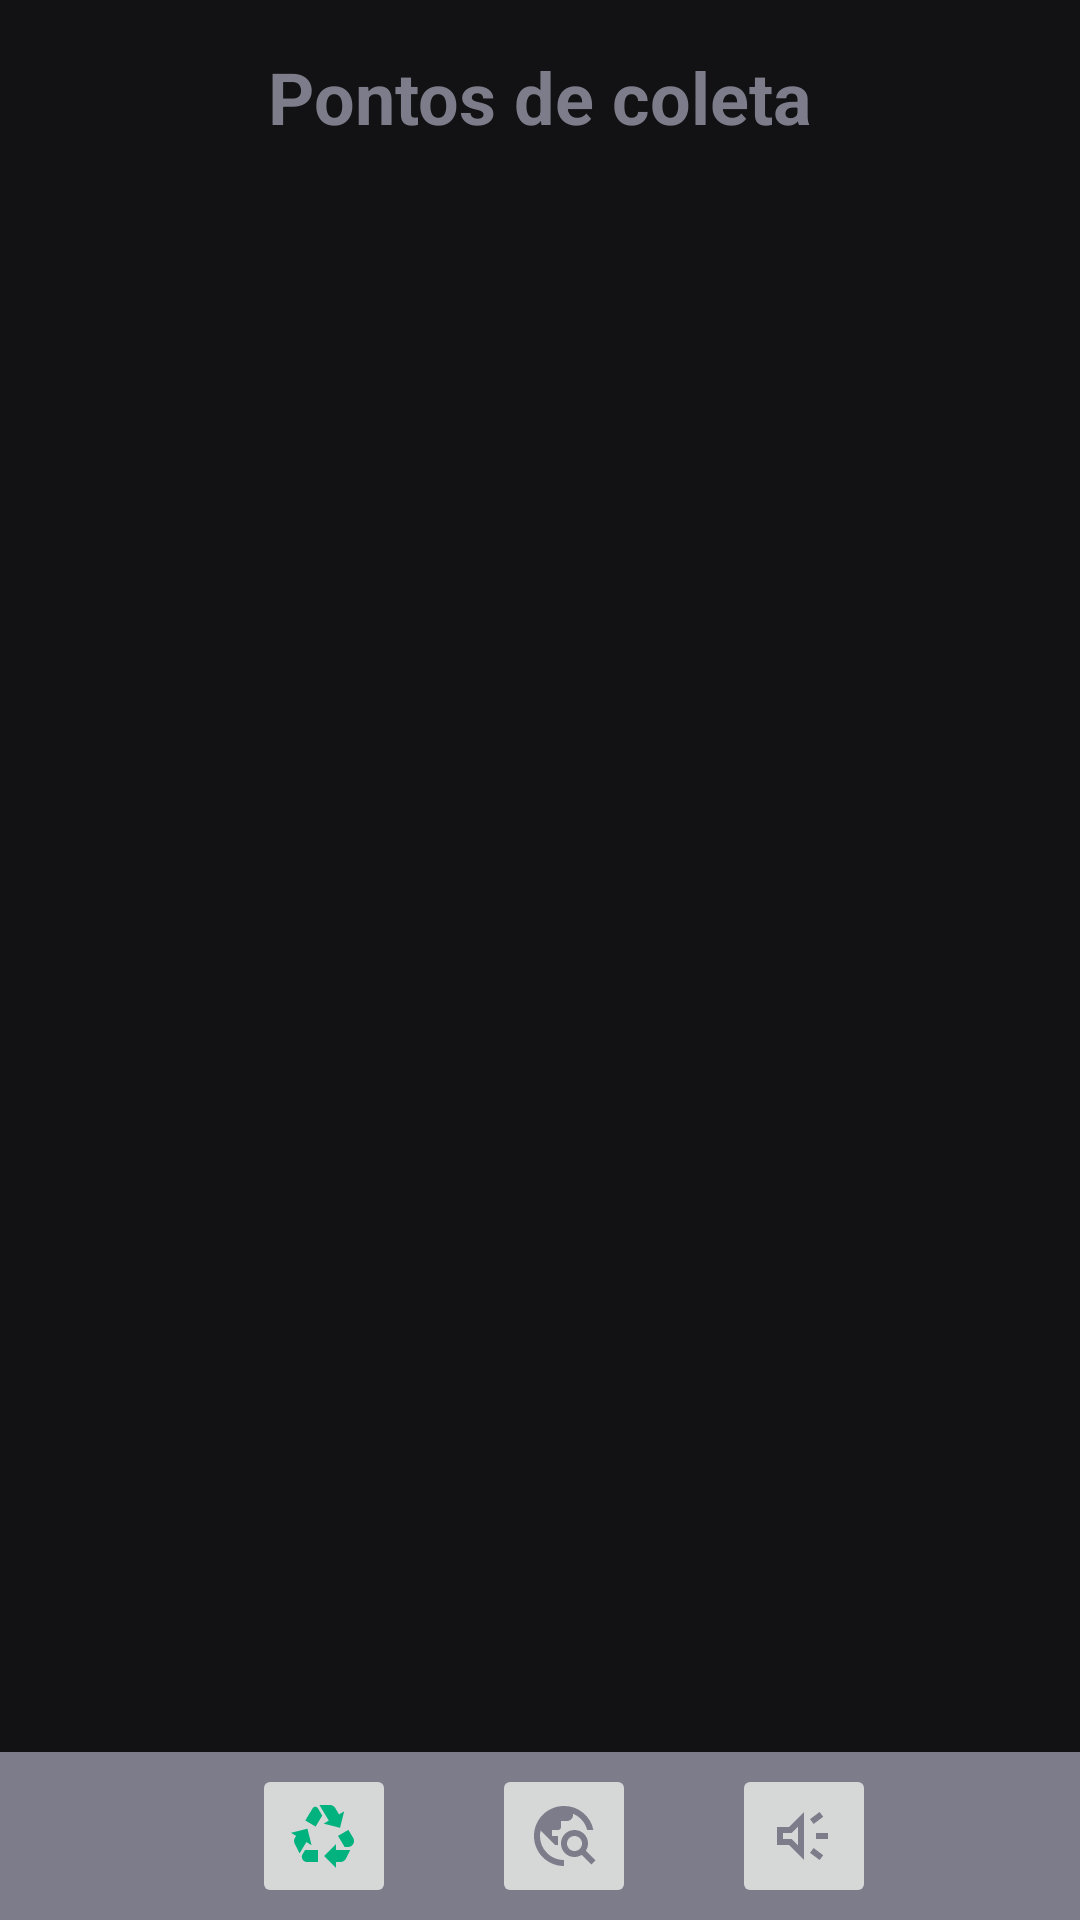

Icon click points for this 1080w x 1920h phone screenshot, format point (x, y):
brand awareness: point (804, 1836)
recycling: point (324, 1836)
travel explore: point (564, 1836)
